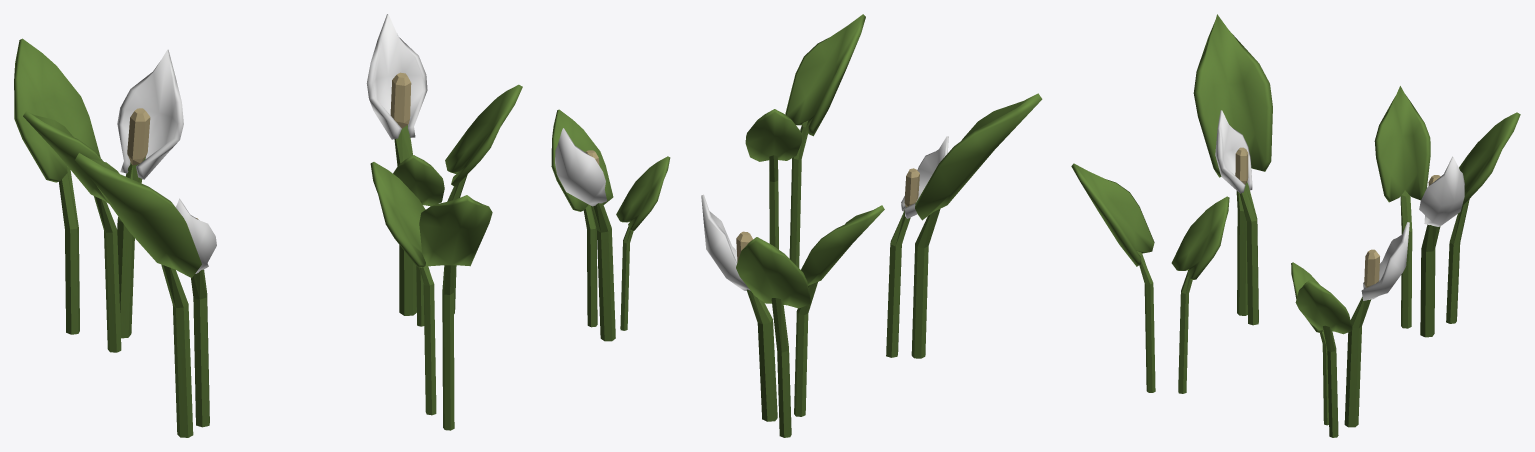
Rendered from Suovehka_keskikokoinen.fbx.
3 renders of one model, left to right at view 1: azimuth 30°, elevation 25°; view 2: azimuth 150°, elevation 25°; view 3: azimuth 270°, elevation 25°, orthographic. The views are drawn at different scales.
Parts seen in each view (by area): view 1: Suovehka_keskikokoinen; view 2: Suovehka_keskikokoinen; view 3: Suovehka_keskikokoinen.
Boxes of the visible parts, bbox=[...] form: Suovehka_keskikokoinen: bbox=[14, 14, 522, 437]; Suovehka_keskikokoinen: bbox=[551, 14, 1042, 437]; Suovehka_keskikokoinen: bbox=[1071, 14, 1520, 437].
Bounding box in the file's own units: 1.75 × 1.09 × 1.78.
